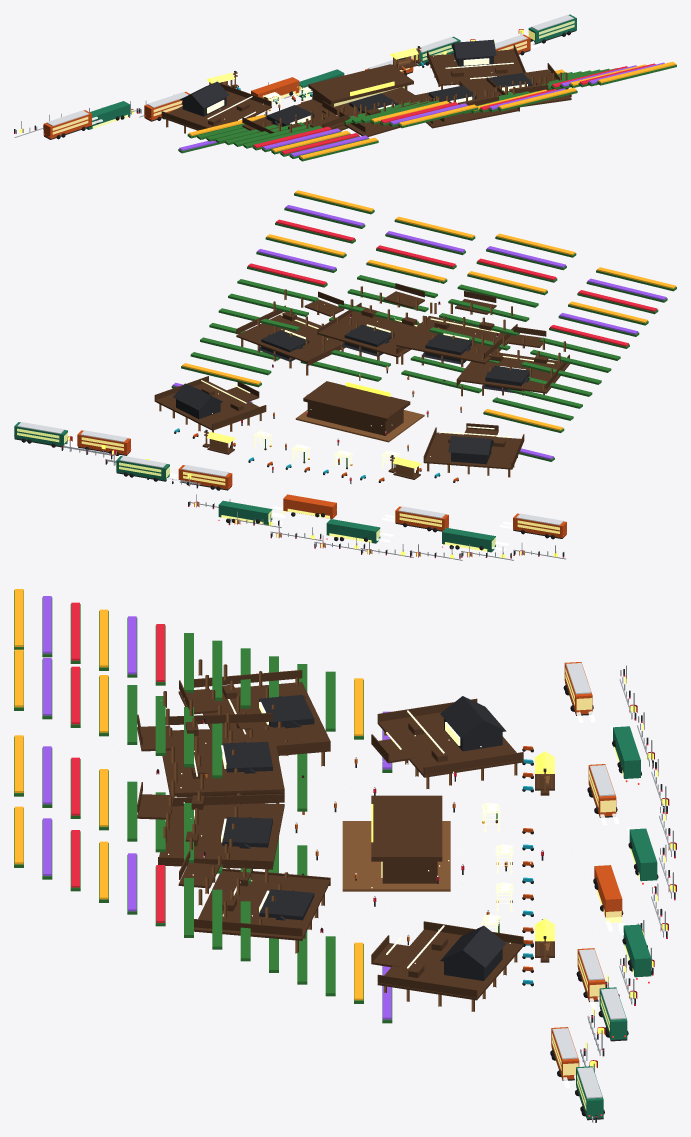
File: ul_w8_02_mimosa_pass_cloud_cafes_and_sleeper_bus_convoy.glb
3 renders of one model, top to bottom at view 1: azimuth 30°, elevation 25°; view 2: azimuth 150°, elevation 25°; view 3: azimuth 270°, elevation 25°, orthographic. The views are drawn at different scales.
Parts seen in each view (by area): view 1: ul_w8_02_cedar_dark_wood, ul_w8_02_foliage_green, ul_w8_02_dark_iron_frame, ul_w8_02_marigold_gold, ul_w8_02_sleeper_bus_orange, ul_w8_02_sleeper_bus_emerald, ul_w8_02_lavender_purple, ul_w8_02_rose_crimson, ul_w8_02_warm_cafe_window, ul_w8_02_pine_deck_wood, ul_w8_02_reefer_truck_white, ul_w8_02_warm_string_bulb (+2 smaller); view 2: ul_w8_02_cedar_dark_wood, ul_w8_02_foliage_green, ul_w8_02_dark_iron_frame, ul_w8_02_sleeper_bus_emerald, ul_w8_02_marigold_gold, ul_w8_02_sleeper_bus_orange, ul_w8_02_pine_deck_wood, ul_w8_02_rose_crimson, ul_w8_02_warm_cafe_window, ul_w8_02_lavender_purple, ul_w8_02_reefer_truck_white, ul_w8_02_warm_string_bulb (+4 smaller); view 3: ul_w8_02_cedar_dark_wood, ul_w8_02_foliage_green, ul_w8_02_dark_iron_frame, ul_w8_02_pine_deck_wood, ul_w8_02_marigold_gold, ul_w8_02_sleeper_bus_emerald, ul_w8_02_sleeper_bus_orange, ul_w8_02_rose_crimson, ul_w8_02_lavender_purple, ul_w8_02_reefer_truck_white, ul_w8_02_warm_string_bulb, ul_w8_02_warm_cafe_window (+3 smaller).
Part boxes in pixels (box(x1,y1,x2,y2)): ul_w8_02_cedar_dark_wood: box(161, 44, 571, 136); ul_w8_02_foliage_green: box(178, 64, 676, 161); ul_w8_02_dark_iron_frame: box(14, 30, 576, 139); ul_w8_02_marigold_gold: box(188, 61, 675, 158); ul_w8_02_sleeper_bus_orange: box(43, 34, 530, 138); ul_w8_02_sleeper_bus_emerald: box(86, 14, 576, 129); ul_w8_02_lavender_purple: box(179, 62, 664, 156); ul_w8_02_rose_crimson: box(14, 29, 655, 154); ul_w8_02_warm_cafe_window: box(52, 20, 574, 134); ul_w8_02_pine_deck_wood: box(166, 46, 567, 140); ul_w8_02_reefer_truck_white: box(46, 14, 573, 126); ul_w8_02_warm_string_bulb: box(207, 52, 527, 124); ul_w8_02_cedar_dark_wood: box(154, 283, 569, 479); ul_w8_02_foliage_green: box(171, 193, 676, 467); ul_w8_02_dark_iron_frame: box(14, 301, 566, 557); ul_w8_02_sleeper_bus_emerald: box(14, 422, 495, 552); ul_w8_02_marigold_gold: box(182, 190, 675, 465); ul_w8_02_sleeper_bus_orange: box(77, 430, 566, 538); ul_w8_02_pine_deck_wood: box(159, 286, 565, 477); ul_w8_02_rose_crimson: box(61, 219, 657, 558); ul_w8_02_warm_cafe_window: box(17, 428, 559, 551); ul_w8_02_lavender_purple: box(172, 205, 666, 459); ul_w8_02_reefer_truck_white: box(17, 304, 563, 525); ul_w8_02_warm_string_bulb: box(201, 282, 554, 505); ul_w8_02_cedar_dark_wood: box(137, 670, 554, 1000); ul_w8_02_foliage_green: box(14, 590, 499, 1023); ul_w8_02_dark_iron_frame: box(157, 669, 675, 1122); ul_w8_02_pine_deck_wood: box(163, 659, 552, 1011); ul_w8_02_marigold_gold: box(14, 589, 498, 1000); ul_w8_02_sleeper_bus_emerald: box(576, 726, 657, 1118); ul_w8_02_sleeper_bus_orange: box(523, 662, 622, 1079); ul_w8_02_rose_crimson: box(71, 602, 676, 1117); ul_w8_02_lavender_purple: box(43, 596, 391, 1019); ul_w8_02_reefer_truck_white: box(157, 663, 625, 1098); ul_w8_02_warm_string_bulb: box(113, 698, 599, 968); ul_w8_02_warm_cafe_window: box(381, 668, 639, 1110).
Size of the model in its own units: 145 by 37.14 by 98.32.
